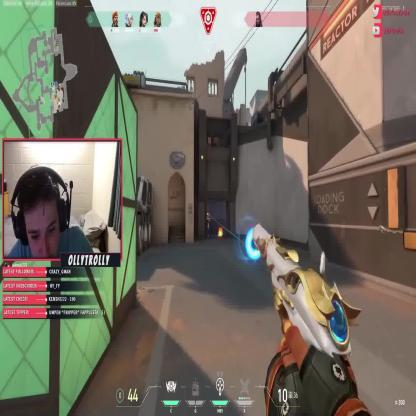enemy: (206, 212, 210, 237)
enemy_head: (206, 212, 210, 218)
